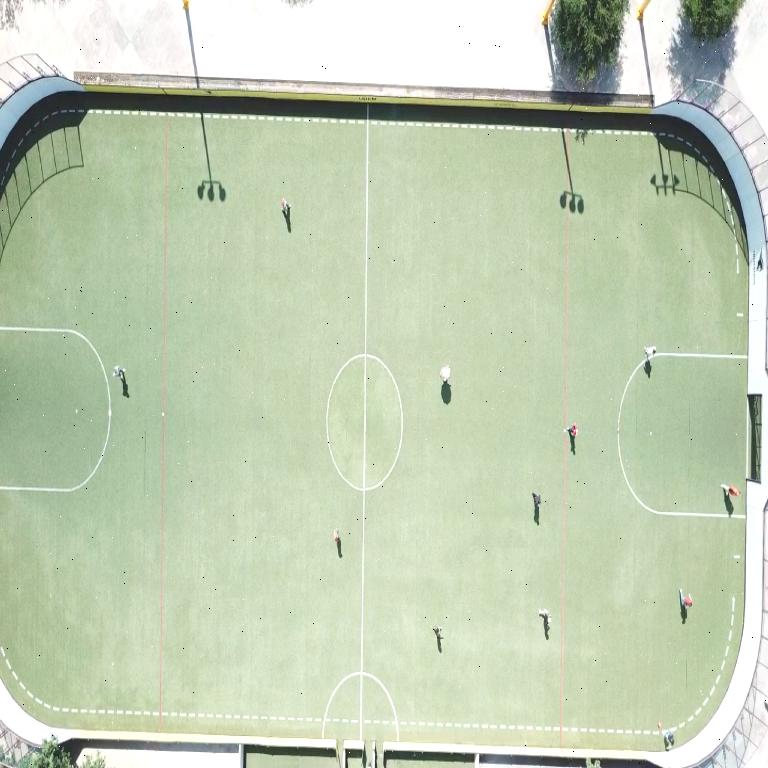AC: (0, 326, 111, 492), (617, 375, 728, 516), (654, 352, 746, 358)
B: (658, 721, 661, 727)
MC: (364, 107, 369, 352), (360, 491, 365, 734), (362, 355, 366, 482), (364, 354, 367, 482), (361, 586, 364, 670), (367, 128, 368, 217)
P: (539, 610, 551, 632), (721, 484, 740, 497), (564, 423, 577, 438), (440, 365, 450, 383), (644, 346, 656, 360), (665, 731, 674, 749), (683, 594, 693, 609), (282, 198, 290, 216), (113, 366, 125, 378), (533, 492, 541, 507), (434, 626, 442, 641), (335, 530, 339, 542)
